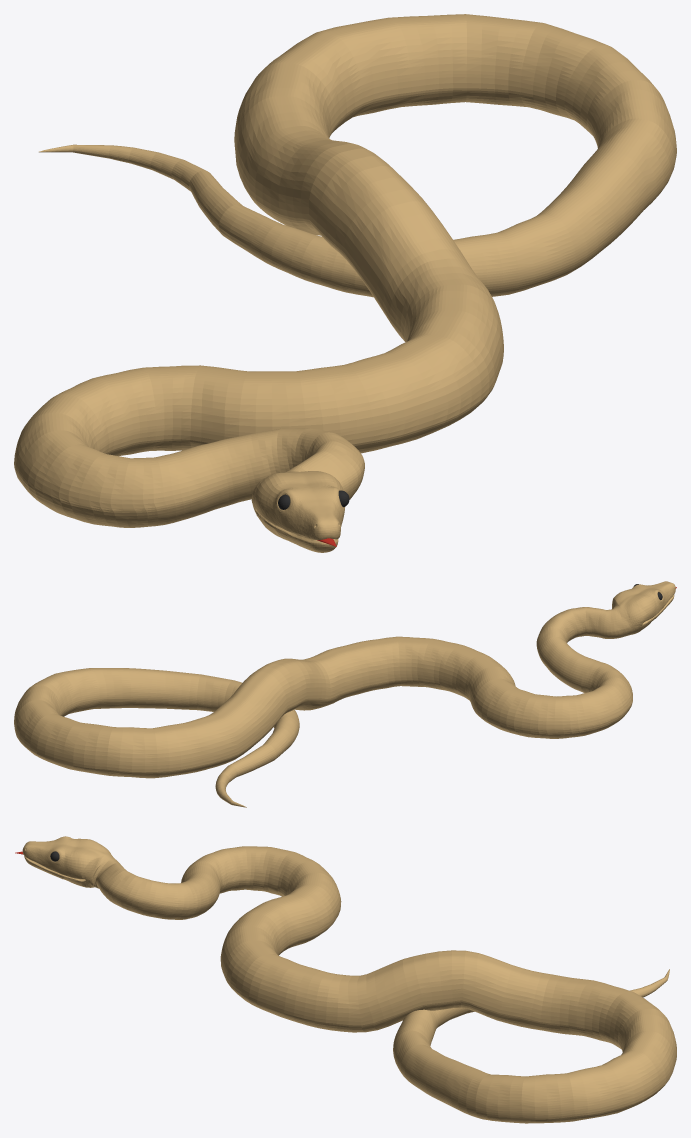
Rendered from snake.fbx.
The picture shows the model from 3 angles, top to bottom: view 1: azimuth 30°, elevation 25°; view 2: azimuth 150°, elevation 25°; view 3: azimuth 270°, elevation 25°; orthographic projection. The views are drawn at different scales.
Visible parts, largest first — view 1: neck27; view 2: neck27; view 3: neck27.
Boxes of the visible parts, x1,y1,x2,y2 form: neck27: (14, 14, 676, 552); neck27: (14, 581, 675, 807); neck27: (22, 836, 676, 1123).
Size of the model in its own units: 428 by 65.78 by 478.
